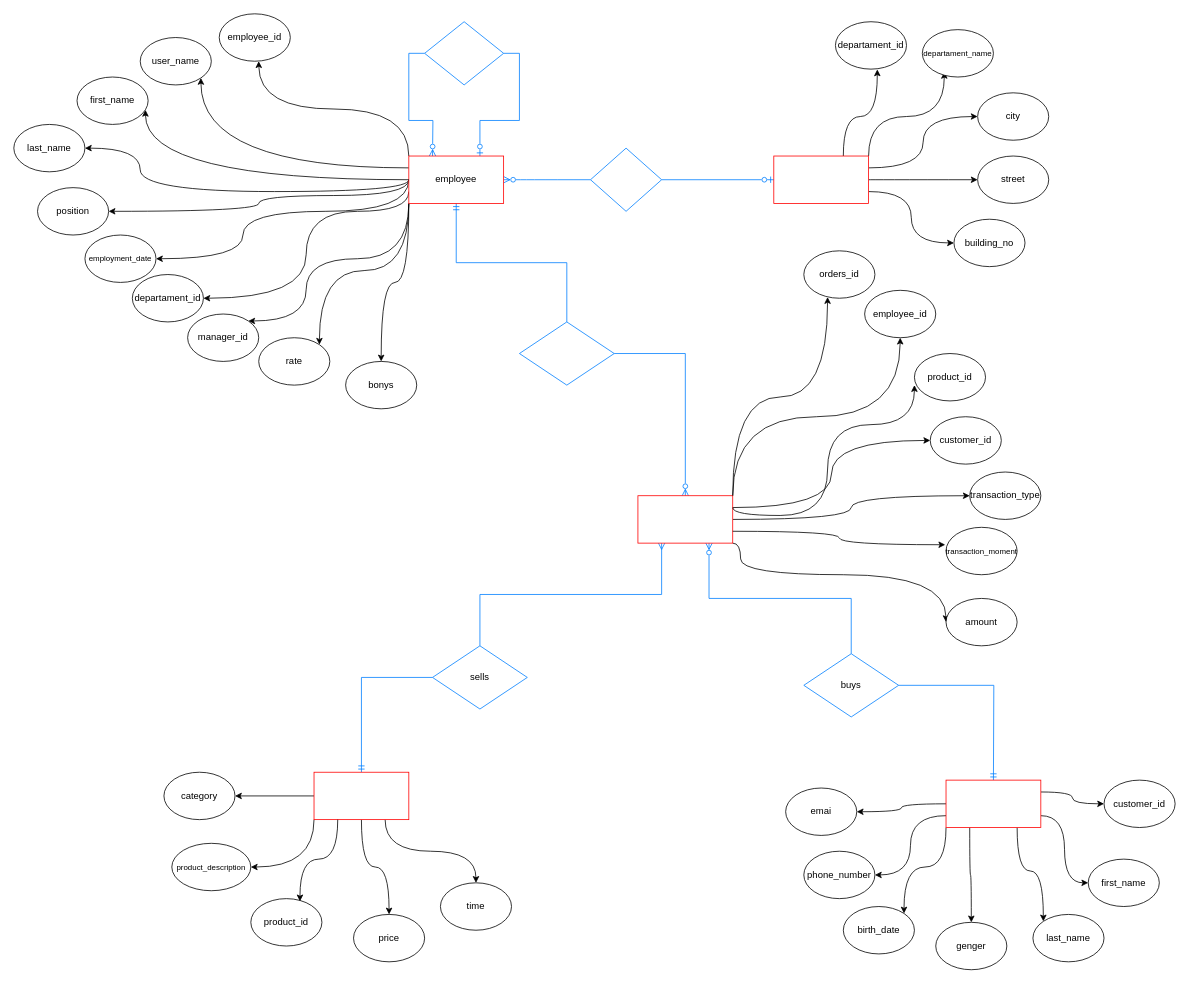
This 1189x984 diagram has some shape labels left out. The centre of each missing label's shape, as x and y in pixels:
customer: pixel 993 803
departament: pixel 821 179
manager_for: pixel 626 179
manages: pixel 464 53
orders: pixel 685 519
places: pixel 566 353
season ticket: pixel 361 795
